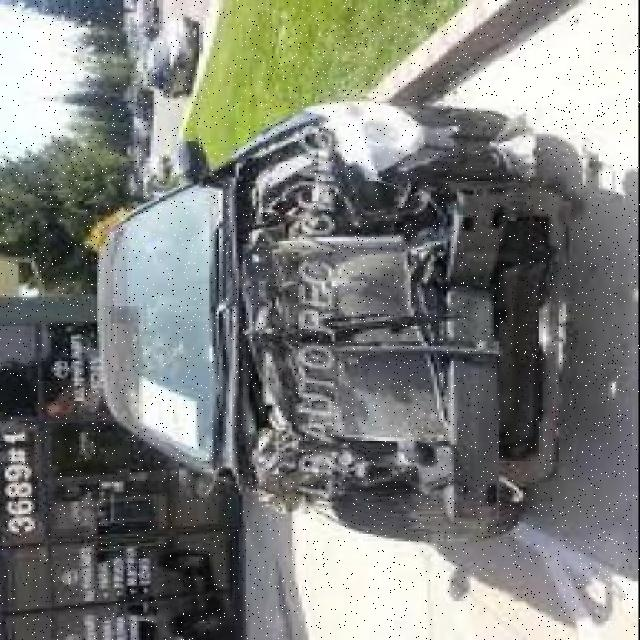damage: (247, 102, 570, 517)
